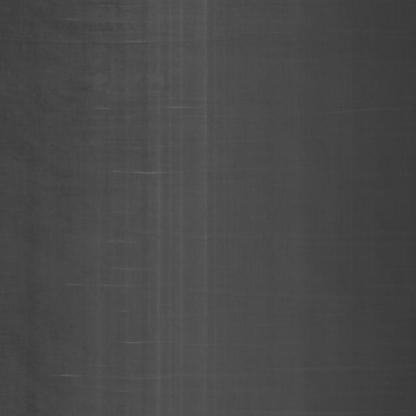waist_folding: (63, 44, 195, 371)
